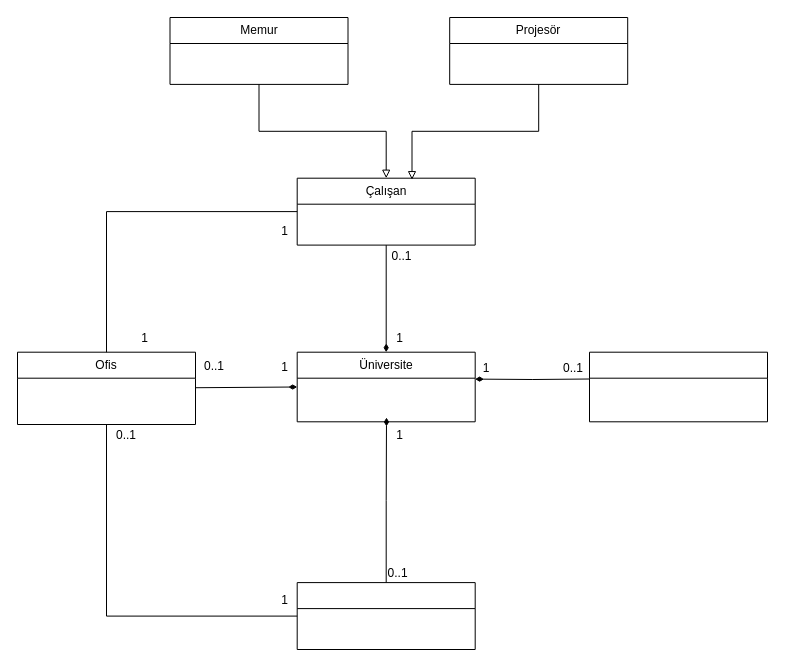
This 785x667 diagram has some shape labels left out. Here are the shapes that lost their labels. From the top down, the centre of each, then its label:
[678,386]: Sınıf
[385,616]: Departman
